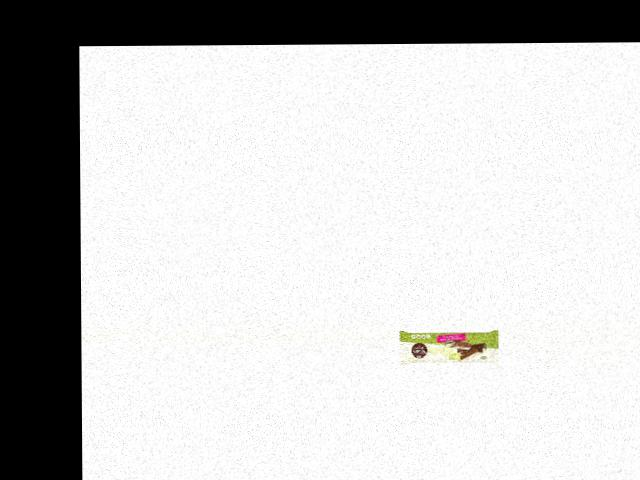chocolate: (400, 326, 500, 367)
